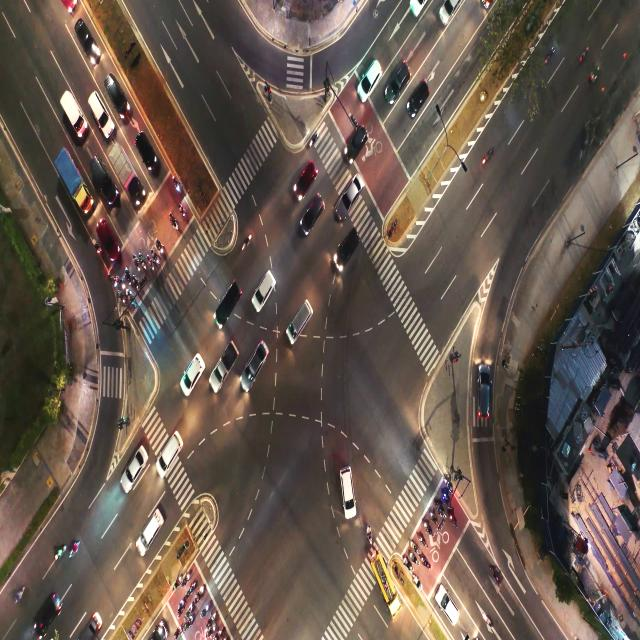bus: (378, 559, 386, 594)
car: (477, 370, 489, 413), (124, 453, 140, 483), (258, 278, 275, 300), (342, 471, 352, 508), (366, 64, 381, 88), (187, 358, 204, 379), (146, 516, 159, 542), (166, 437, 180, 459), (44, 601, 57, 624), (345, 181, 359, 202), (220, 292, 237, 308), (351, 132, 366, 150), (396, 67, 407, 87), (250, 352, 261, 372), (302, 168, 314, 186), (444, 596, 454, 616), (309, 200, 320, 217), (86, 617, 97, 633), (344, 235, 354, 252), (295, 307, 303, 328), (416, 85, 424, 103), (97, 105, 105, 122), (104, 225, 110, 245), (142, 143, 150, 158), (97, 168, 104, 182), (112, 85, 120, 97)
motorcycle: (365, 523, 375, 541), (18, 585, 27, 600), (180, 200, 187, 217), (197, 586, 204, 602), (244, 235, 251, 250), (202, 603, 209, 617), (446, 475, 452, 490), (450, 510, 456, 525), (484, 615, 492, 626), (208, 614, 216, 625), (310, 134, 318, 144), (57, 546, 64, 557), (70, 544, 76, 556), (188, 583, 194, 595), (174, 628, 180, 640), (174, 576, 181, 586), (157, 238, 162, 251), (492, 570, 500, 578), (170, 214, 175, 226), (138, 255, 144, 265), (184, 620, 191, 628), (414, 575, 419, 586), (425, 522, 431, 531), (118, 293, 124, 302), (208, 627, 214, 636), (180, 595, 184, 608), (174, 179, 179, 189), (186, 608, 191, 618), (444, 494, 448, 506), (406, 559, 412, 567), (153, 251, 157, 263), (110, 275, 114, 287), (423, 558, 428, 567), (413, 543, 418, 552), (150, 256, 154, 267), (134, 274, 137, 288), (218, 630, 224, 637), (439, 504, 443, 514), (94, 241, 98, 251), (184, 575, 188, 585), (127, 268, 130, 280), (134, 253, 137, 264), (129, 293, 133, 301), (420, 533, 423, 543), (432, 513, 436, 520), (119, 278, 122, 286), (413, 554, 416, 561)
truck: (218, 348, 233, 374), (66, 164, 77, 190), (66, 98, 76, 124), (120, 154, 128, 178)
